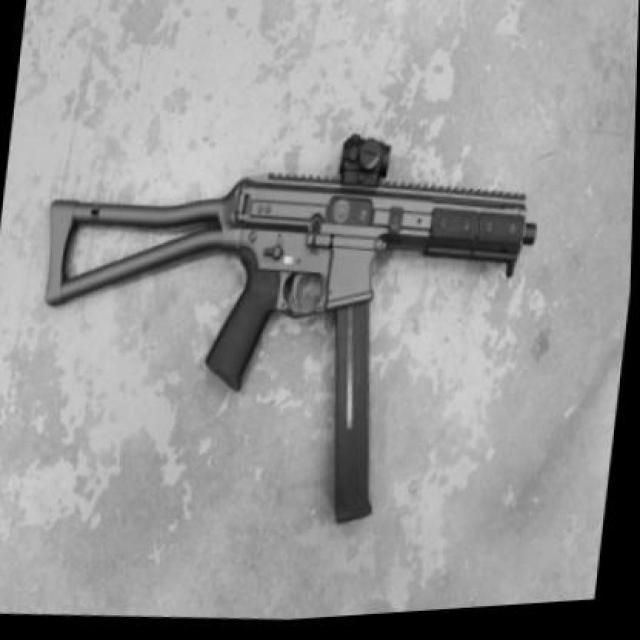weapon: (42, 135, 541, 525)
